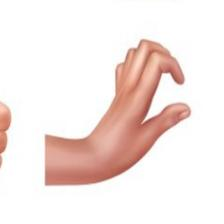five: (89, 33, 195, 188)
